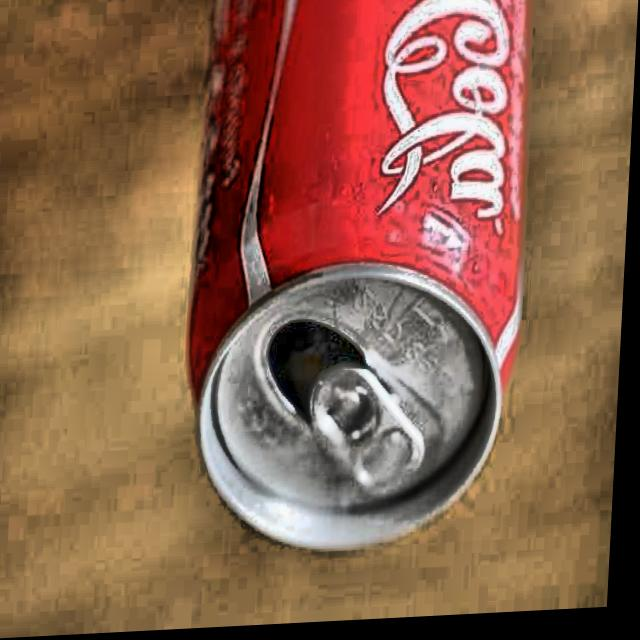can: (169, 0, 539, 573)
